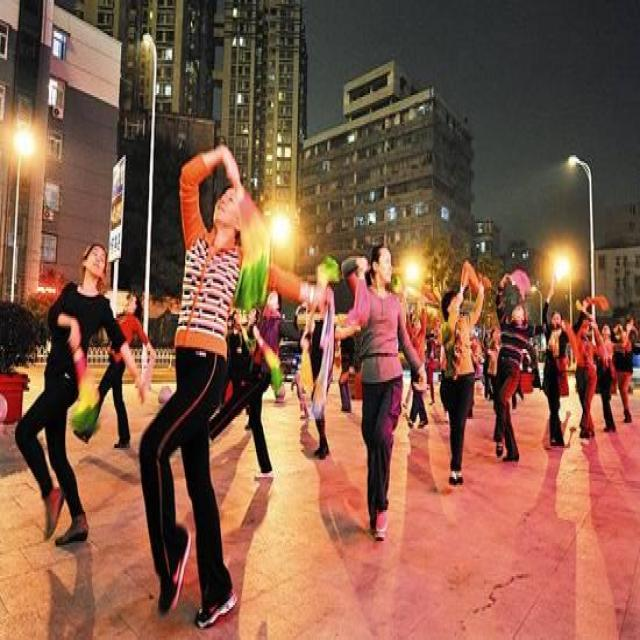fight: (137, 140, 334, 628), (13, 240, 147, 542), (341, 244, 429, 544), (208, 283, 301, 481), (72, 292, 156, 452), (278, 255, 339, 459), (440, 255, 487, 488), (492, 264, 544, 468), (563, 303, 602, 439), (541, 276, 569, 448)
